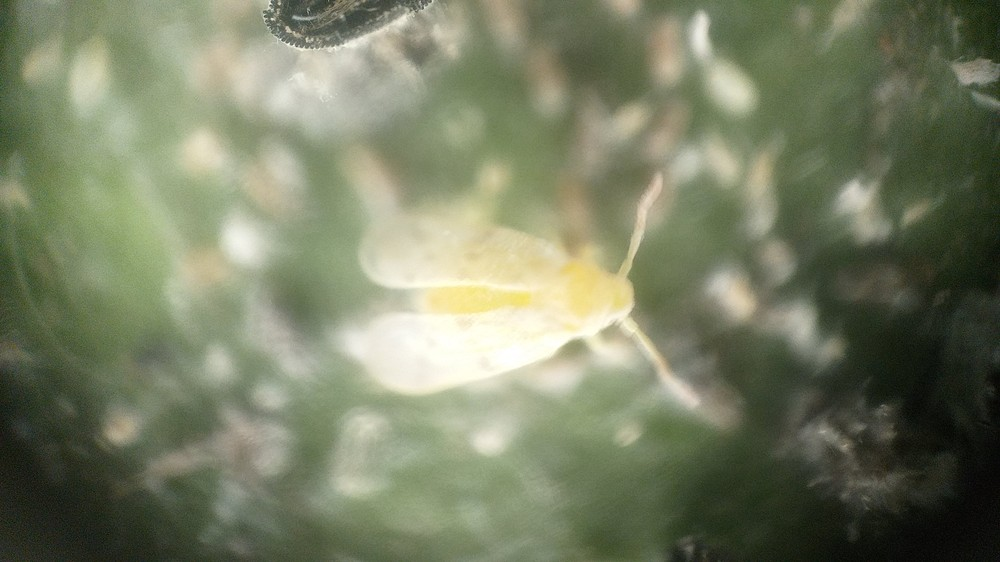Mosca Blanca: (344, 167, 725, 432)
